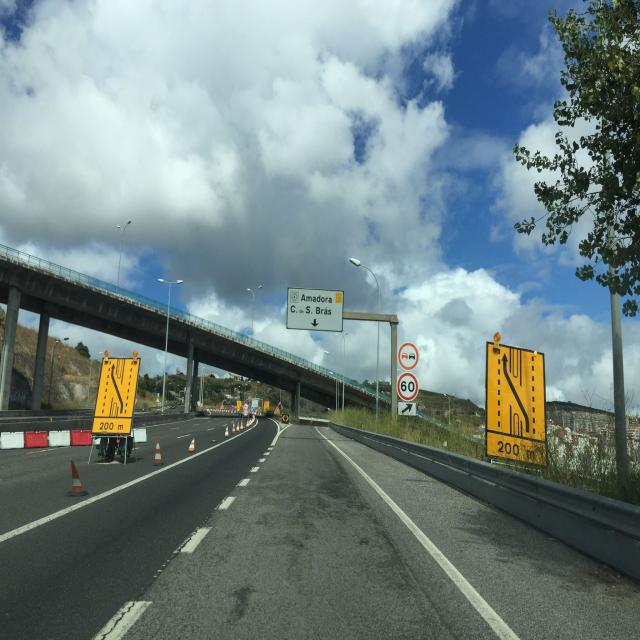car: (282, 414, 290, 424)
